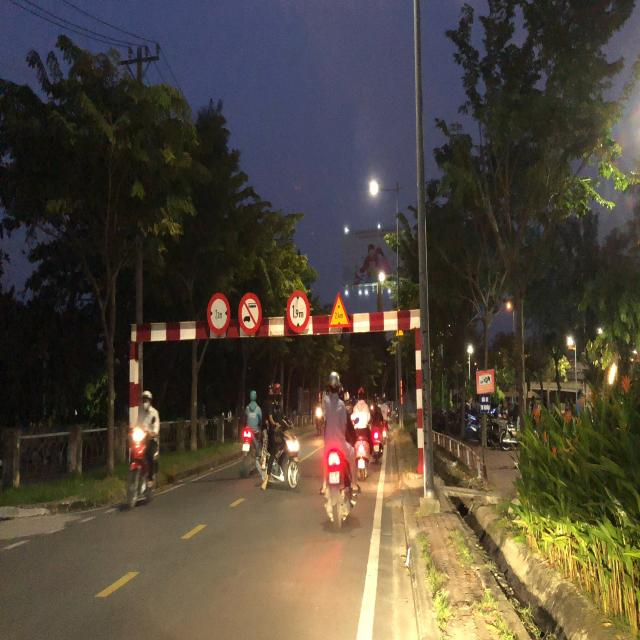Bien bao cam xe oto khach va xe oto tai: (238, 288, 266, 338)
Bien bao chieu cao tinh khong thuc te: (327, 290, 355, 336)
Bien bao han che chieu cao: (284, 284, 314, 332)
